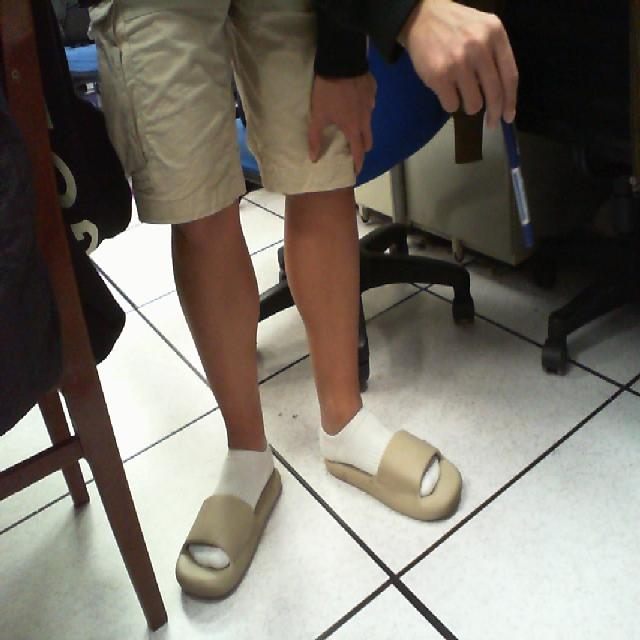Pen: (474, 91, 552, 290)
